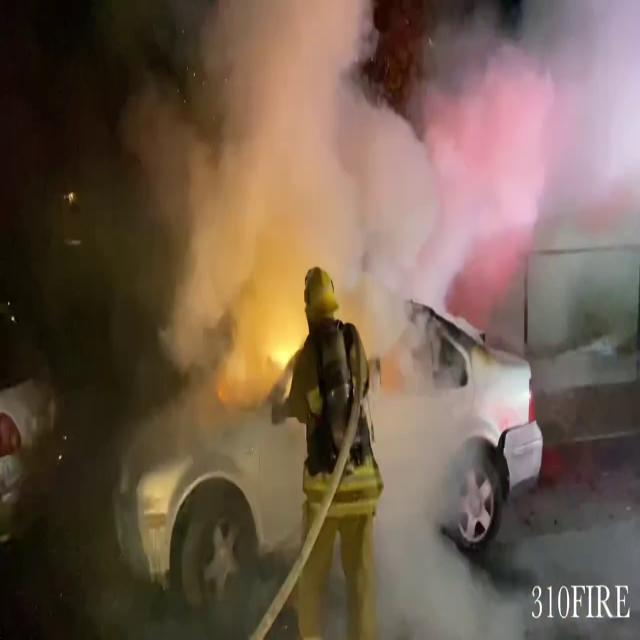Smoke: (132, 0, 616, 420)
